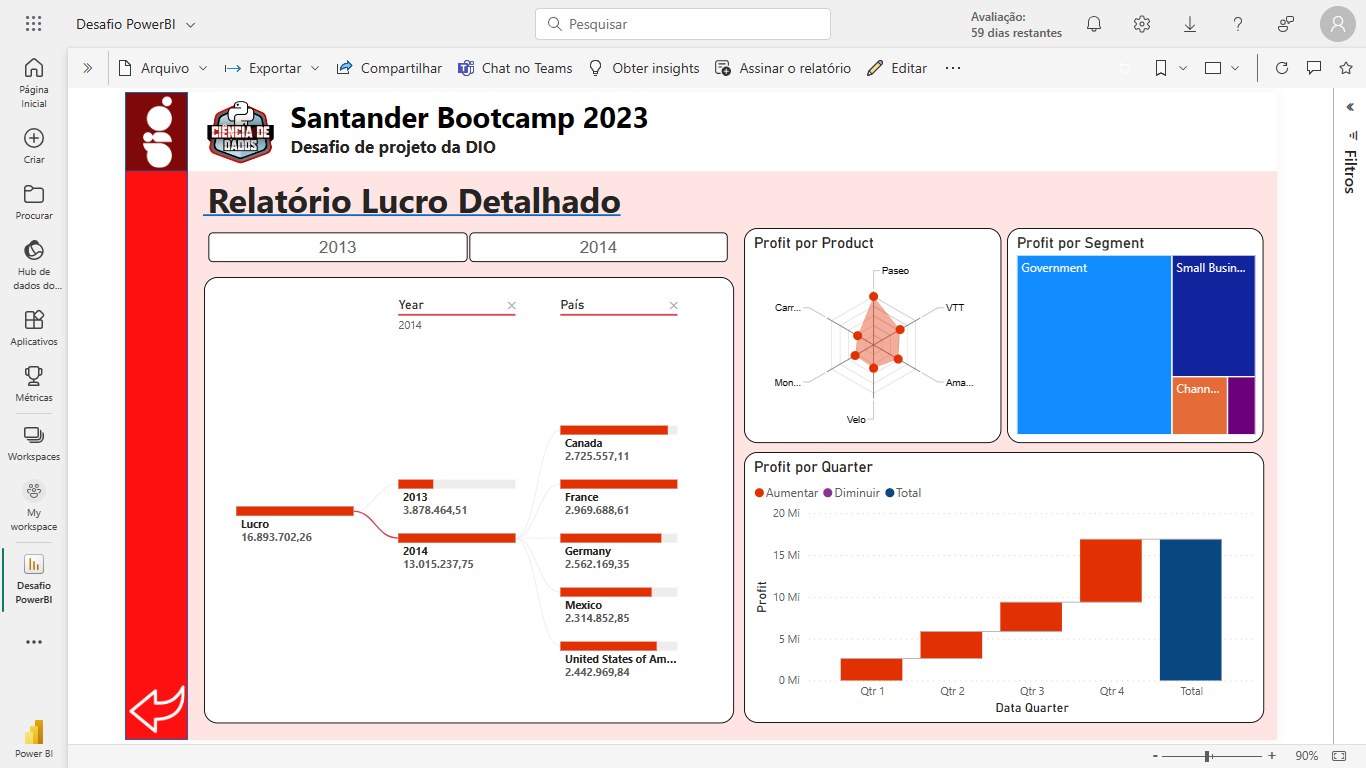

Layout of this report page (visuals, bound fields, positions):
{"tool":"powerbi","page":{"name":"Página 2","canvas":[1280,720],"ordinal":1},"visuals":[{"type":"shape","box":[0,0,70,720],"z":0},{"type":"shape","box":[0,0,70,88.3],"z":1000},{"type":"shape","box":[70,0,1210,88.3],"z":2000},{"type":"shape","box":[87,129.7,464.2,13.7],"z":3000},{"type":"image","title":"Logo DIO","box":[1,0,69.8,88.5],"z":4000},{"type":"textbox","box":[179.3,0,496.6,87.9],"z":5000},{"type":"textbox","box":[87,88.5,484.5,63],"z":6000},{"type":"image","box":[58.5,0,138,88.5],"z":7000},{"type":"image","box":[0,649.5,70.5,70.5],"z":8000},{"type":"decompositionTreeVisual","fields":{"ExplainBy":["financials.Data.Variation.Date Hierarchy.Year","financials.Country"],"Analyze":["Sum(financials.Profit)"]},"box":[87.5,205,588.8,496.2],"z":9000},{"type":"waterfallChart","fields":{"Y":["Sum(financials.Profit)"],"Category":["financials.Date.Variation.Date Hierarchy.Quarter"]},"box":[687.5,400,577.5,301.2],"z":10000},{"type":"RadarChart1446119667547","fields":{"Y":["Sum(financials.Profit)"],"Category":["financials.Product"]},"box":[687.5,151.2,286,238.8],"z":11000},{"type":"ChicletSlicer1448559807354","fields":{"Category":["financials.Date.Variation.Date Hierarchy.Year"]},"box":[87,150.2,588.8,54.6],"z":12000},{"type":"treemap","fields":{"Values":["Sum(financials.Profit)"],"Group":["financials.Segment"]},"box":[980,151.2,285,238.8],"z":13000}]}

Visuals, with their boxes on the page's 1280x720 design canvas (x1, y1, x2, y2). These are canvas units, not pixel positions in the 1366x768 screenshot, which may show the page scaled, cropped or inside an application window:
shape: l=0, t=0, r=70, b=720
shape: l=0, t=0, r=70, b=88
shape: l=70, t=0, r=1280, b=88
shape: l=87, t=130, r=551, b=143
"Logo DIO" image: l=1, t=0, r=71, b=88
textbox: l=179, t=0, r=676, b=88
textbox: l=87, t=88, r=572, b=152
image: l=58, t=0, r=196, b=88
image: l=0, t=650, r=70, b=720
decompositionTreeVisual - financials.Data.Variation.Date Hierarchy.Year x financials.Country: l=88, t=205, r=676, b=701
waterfallChart - Sum(financials.Profit) x financials.Date.Variation.Date Hierarchy.Quarter: l=688, t=400, r=1265, b=701
RadarChart1446119667547 - Sum(financials.Profit) x financials.Product: l=688, t=151, r=974, b=390
ChicletSlicer1448559807354 - financials.Date.Variation.Date Hierarchy.Year: l=87, t=150, r=676, b=205
treemap - Sum(financials.Profit) x financials.Segment: l=980, t=151, r=1265, b=390
